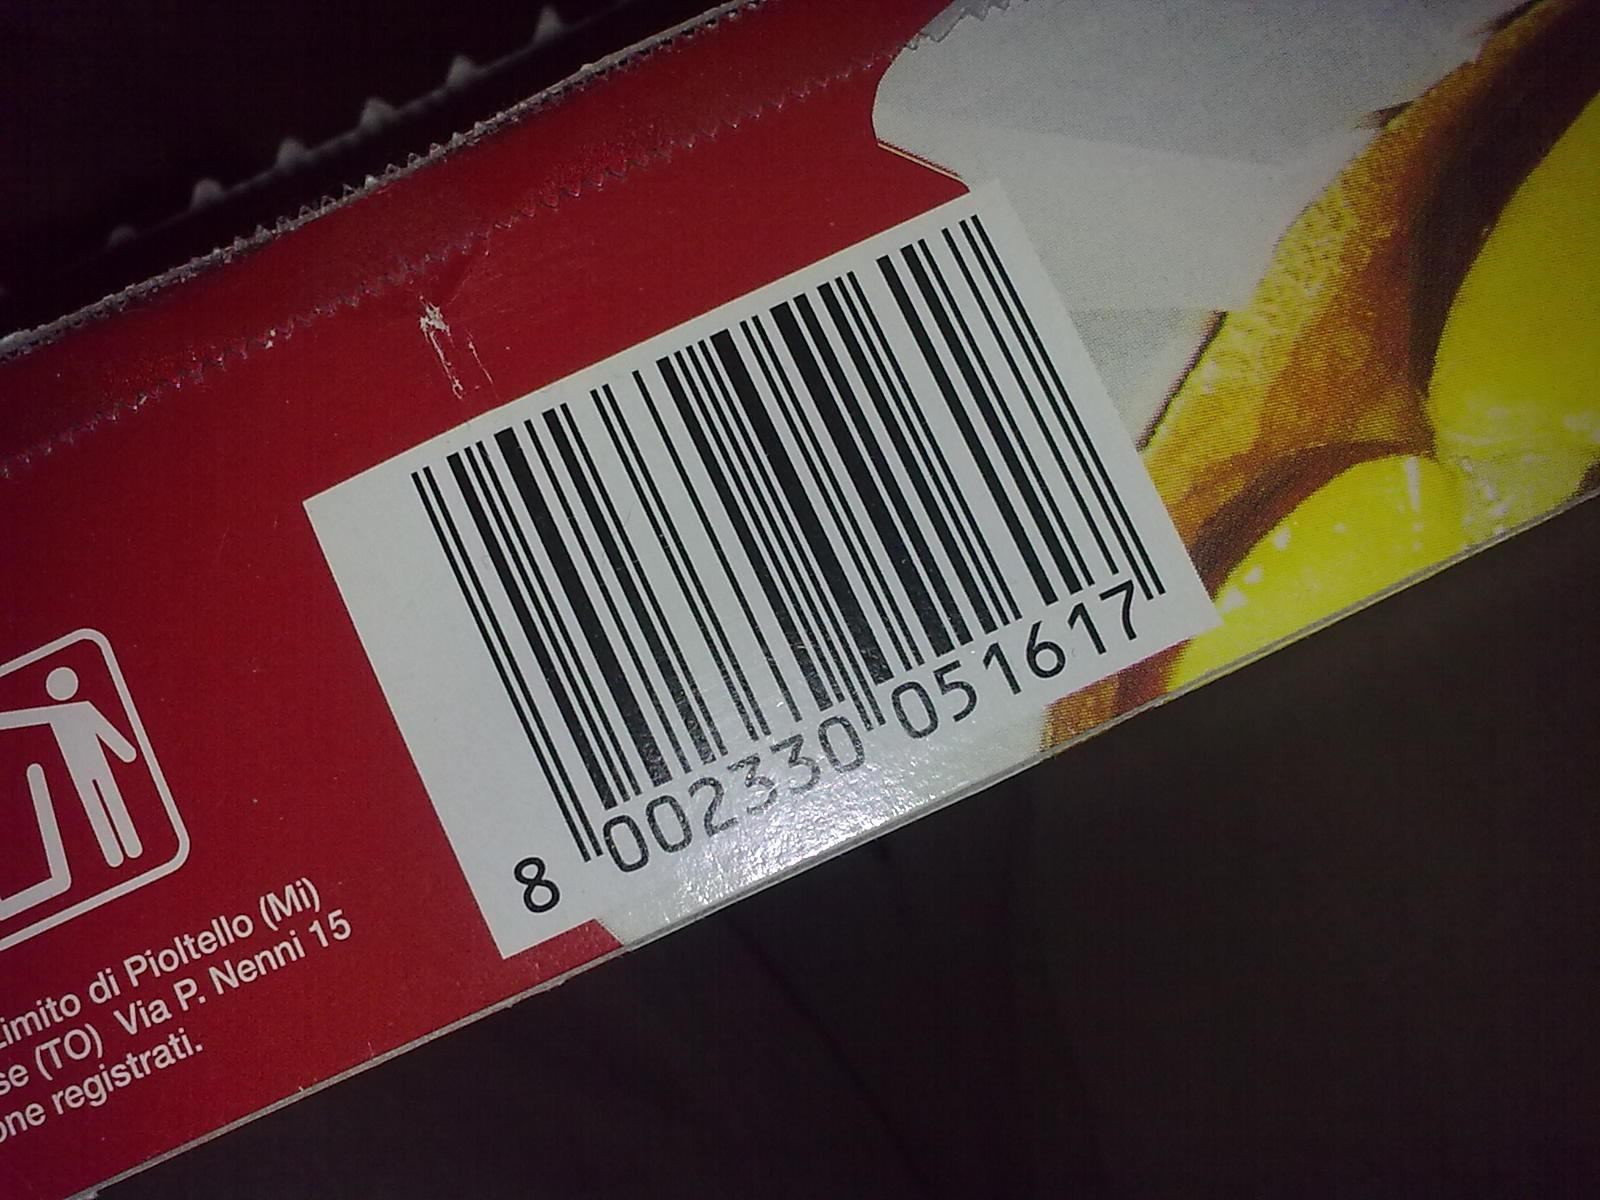Barcode: (404, 200, 1187, 924)
